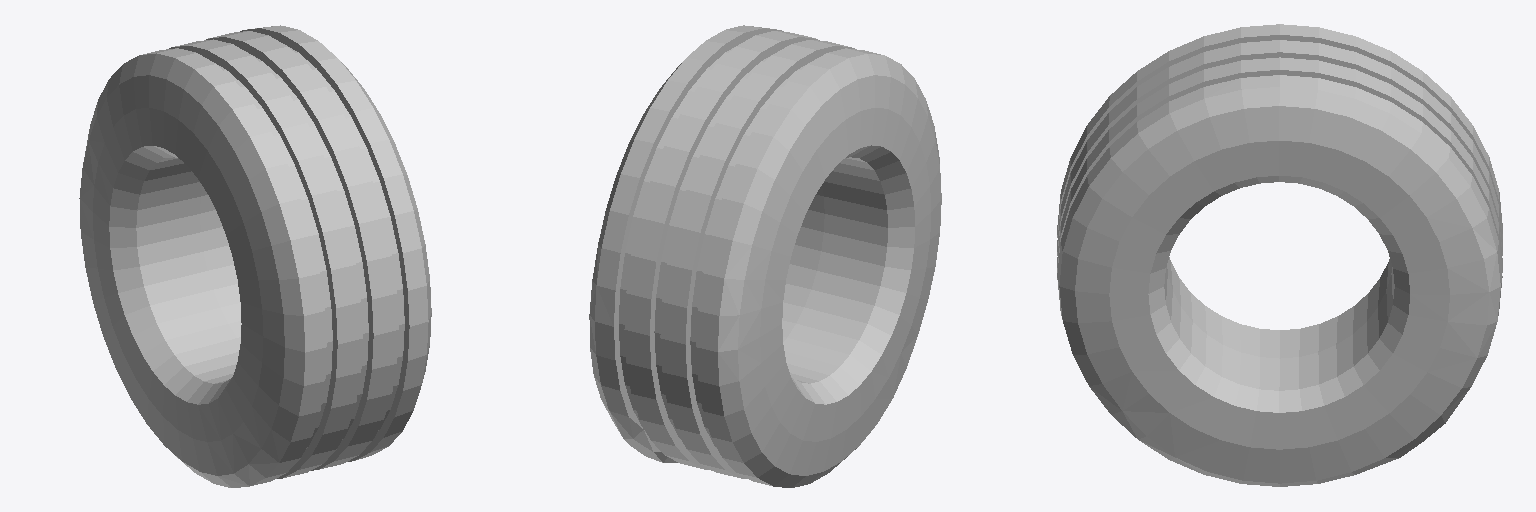
The model's file is wheel_A8.obj.
3 renders of one model, left to right at view 1: azimuth 30°, elevation 25°; view 2: azimuth 150°, elevation 25°; view 3: azimuth 270°, elevation 25°, orthographic.
Parts seen in each view (by area): view 1: Ferrari_wheel_front_R; view 2: Ferrari_wheel_front_R; view 3: Ferrari_wheel_front_R.
Part boxes in pixels (bbox=[...]): Ferrari_wheel_front_R: bbox=[79, 25, 431, 487]; Ferrari_wheel_front_R: bbox=[589, 25, 941, 487]; Ferrari_wheel_front_R: bbox=[1057, 24, 1502, 486].
Bounding box in the file's own units: 0.274 × 0.6531 × 0.6536.